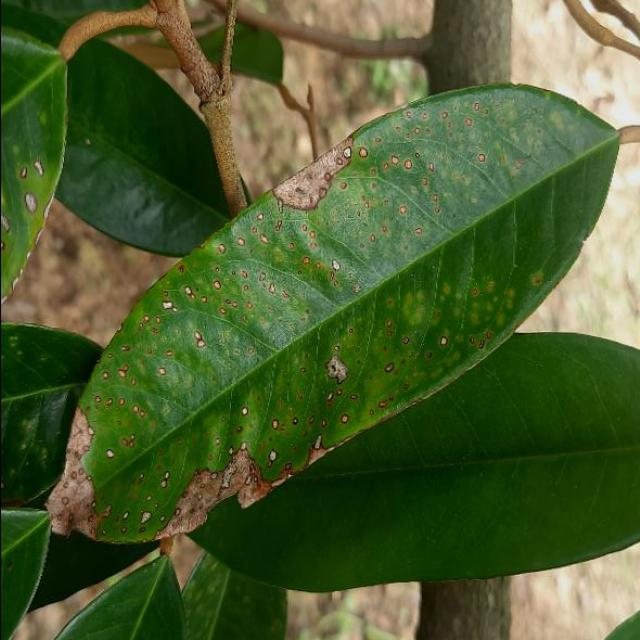Leaf Spot: (40, 63, 632, 576)
